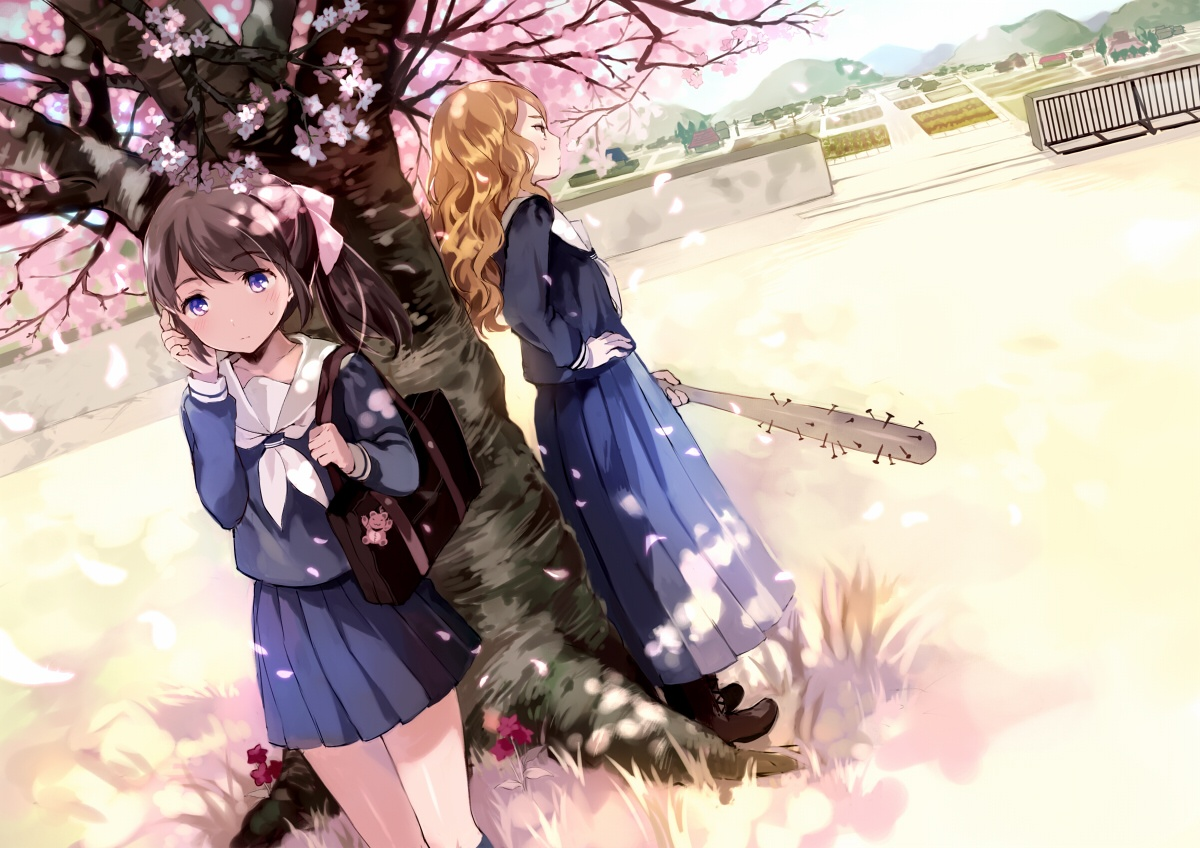纸片人正脸: (134, 174, 318, 359)
